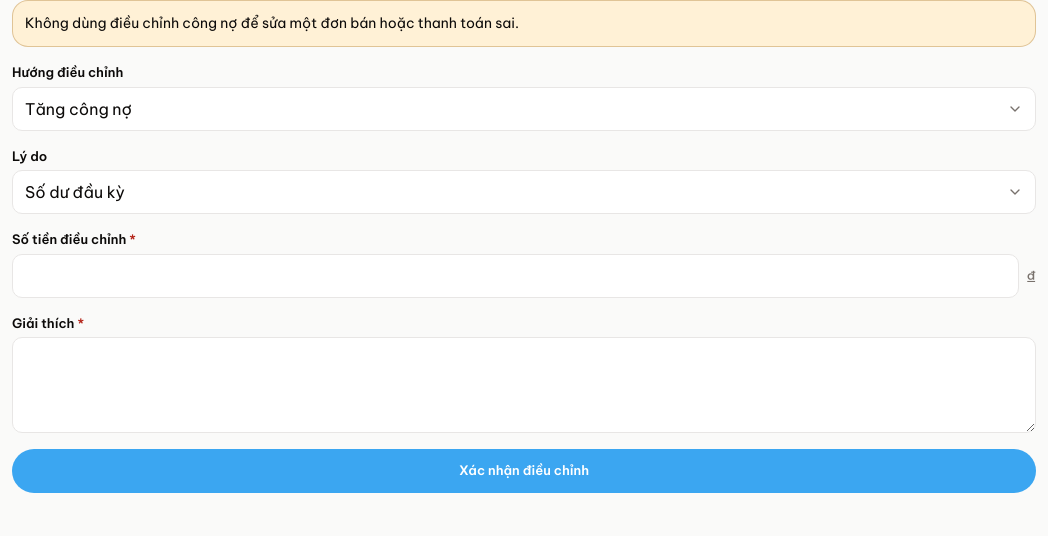
it: DebtAdjustmentForm › requires a reason code and explanation before a manual balance change
The image size is (1048, 536).
Step 1. Type "20.000" into the field labelled "Số tiền điều chỉnh" → (515, 276), box [12,254,1018,298]
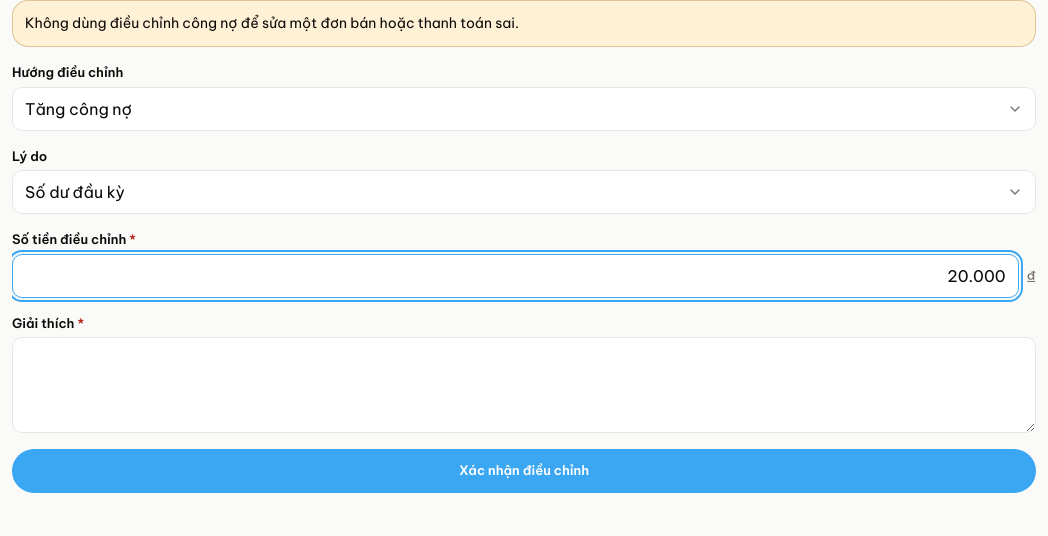
Step 2. Click the button "Xác nhận điều chỉnh" → (524, 471), box [12,449,1036,493]
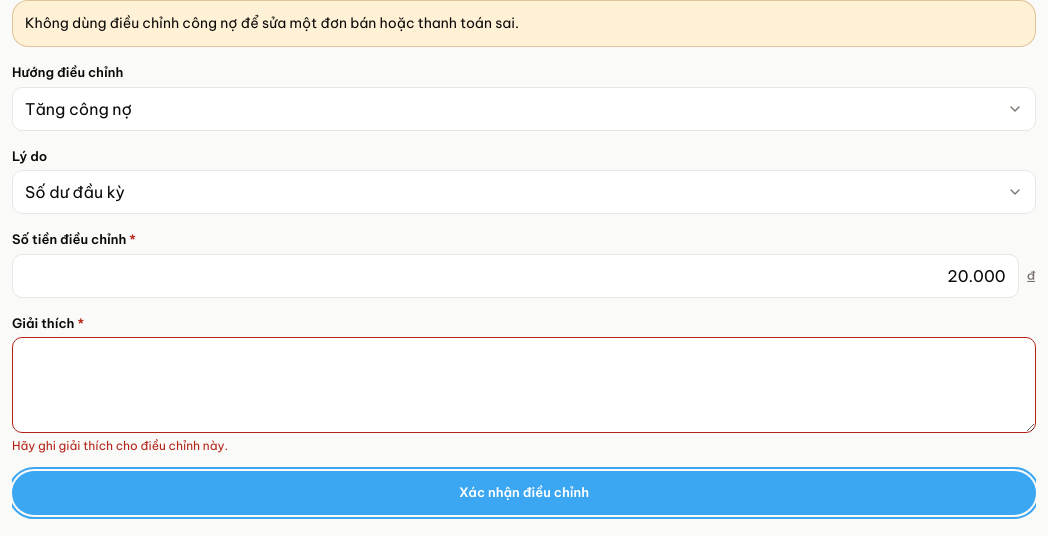
Check: the text "Hãy ghi giải thích cho điều chỉnh này." is shown, box [12,438,228,453]
